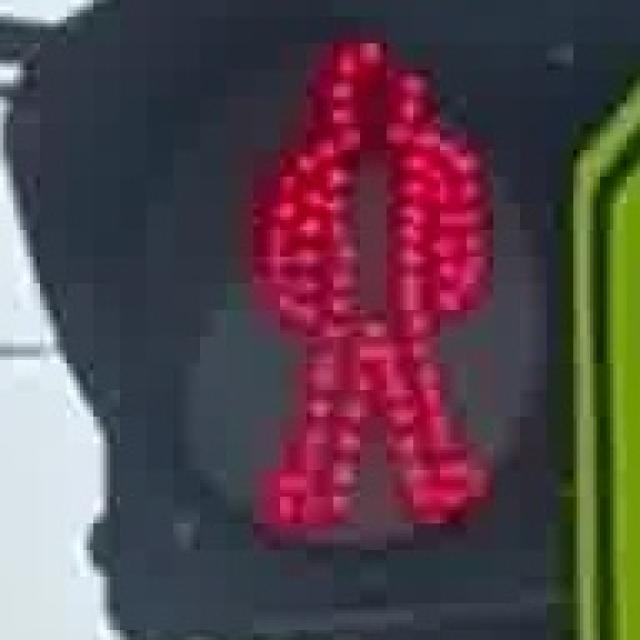red-crossing: (206, 16, 506, 536)
